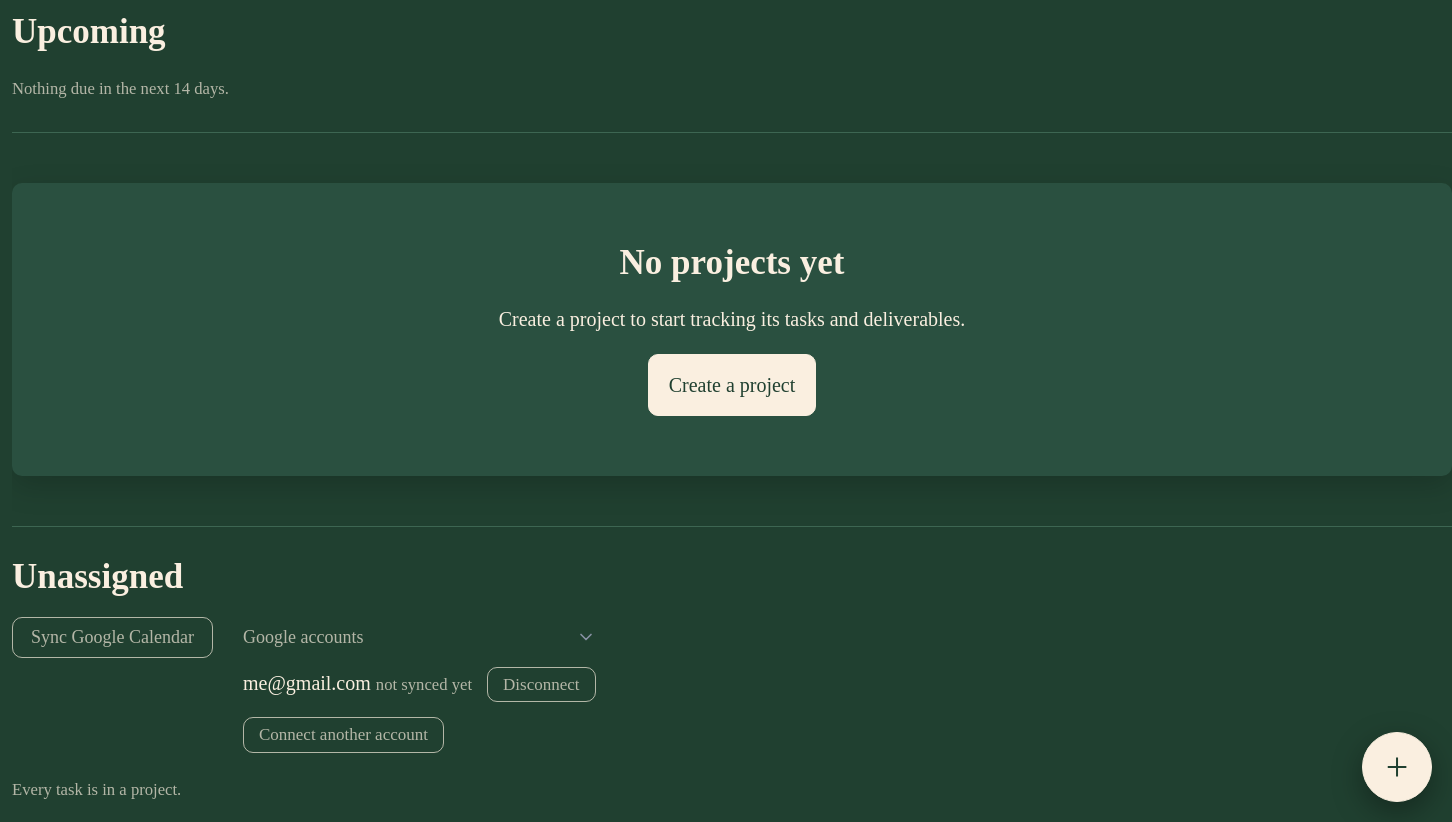
Test case: Sync Google Calendar › lists the connected accounts when opened, and disconnects one
The image size is (1452, 822).
Click the button "Disconnect": click(541, 685) x1=487 y1=667 x2=596 y2=702
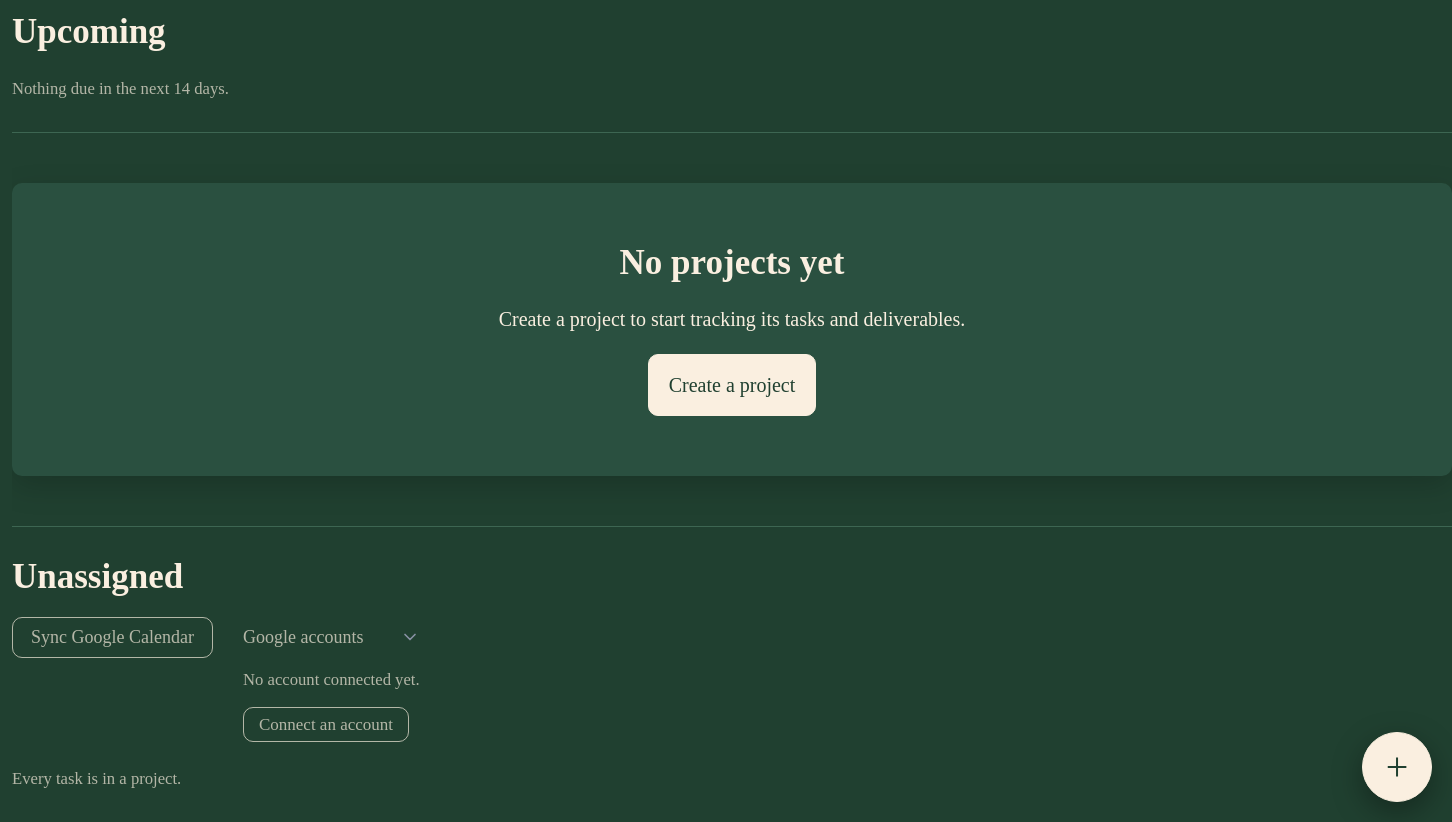
Result: the list with class "accounts" reads "No account connected yet." at x1=243 y1=670 x2=420 y2=689
